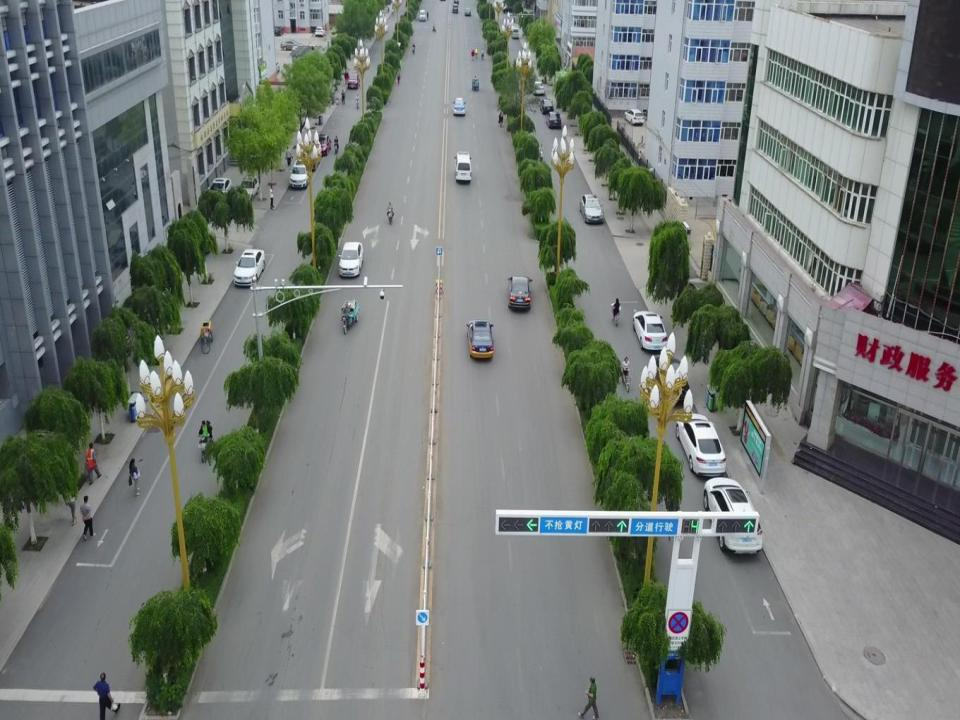car: (703, 477, 762, 553), (676, 413, 726, 475), (653, 354, 690, 406), (633, 311, 667, 351), (233, 250, 265, 286), (466, 320, 494, 359), (507, 274, 532, 310), (339, 241, 363, 278), (579, 194, 605, 224), (204, 177, 232, 202), (238, 175, 259, 201), (290, 163, 308, 188), (313, 135, 331, 155), (624, 108, 644, 125), (280, 39, 305, 51), (546, 111, 561, 128), (452, 98, 466, 116), (540, 98, 553, 114), (348, 74, 360, 88), (533, 81, 543, 95), (273, 26, 284, 36), (314, 26, 325, 36), (503, 5, 516, 13), (464, 7, 471, 16)
van: (454, 152, 472, 184), (419, 9, 426, 21), (512, 26, 519, 38), (452, 4, 458, 13)
